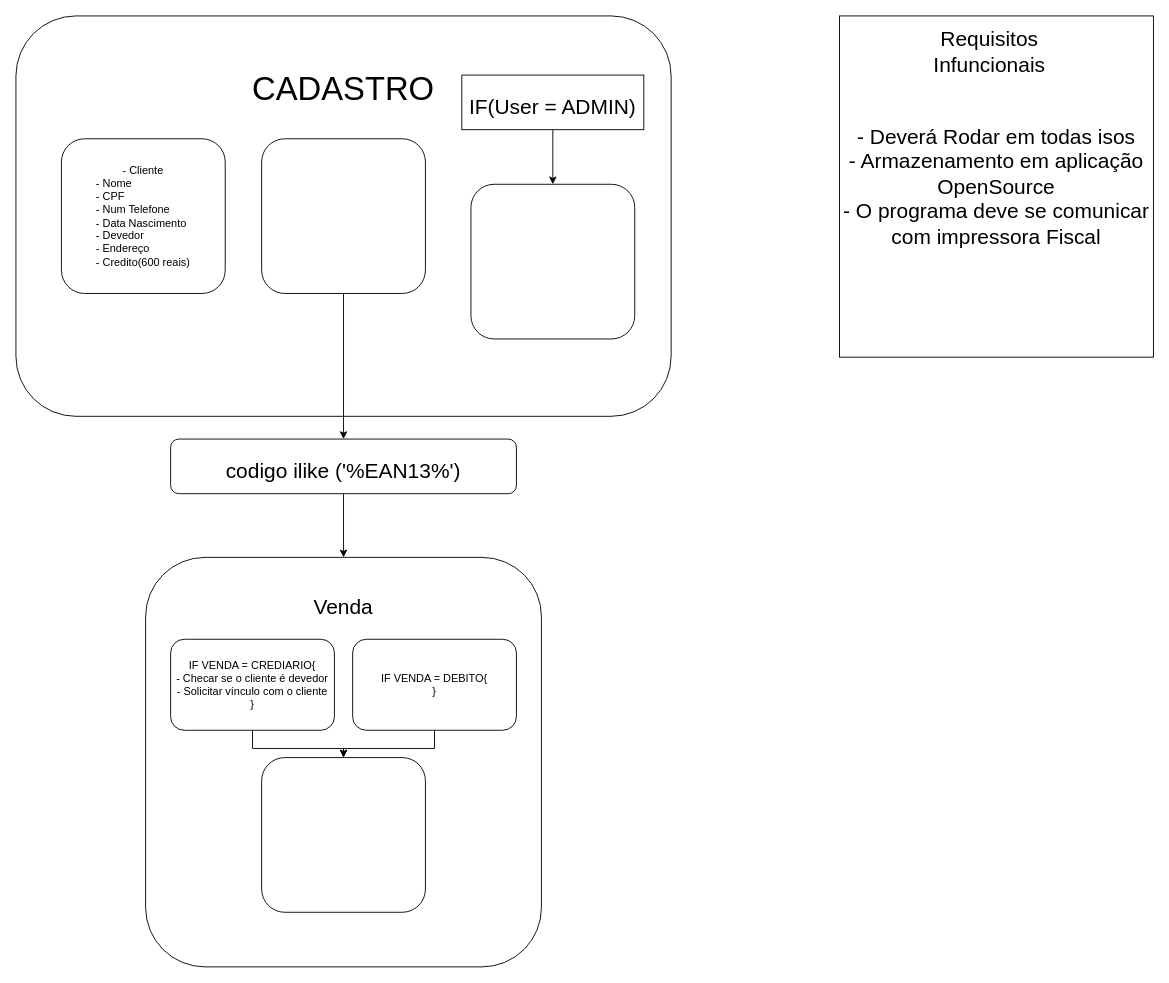
This 1169x983 diagram has some shape labels left out. The centre of each missing label's shape, as x and y in pixels:
- Produto - Nome - Codigo - Lista - Quantidade - Controle: (343,215)
- Produtos - Quantidade: (343,834)
- VENDEDOR - COMPRADOR - GERENTE: (552,261)
